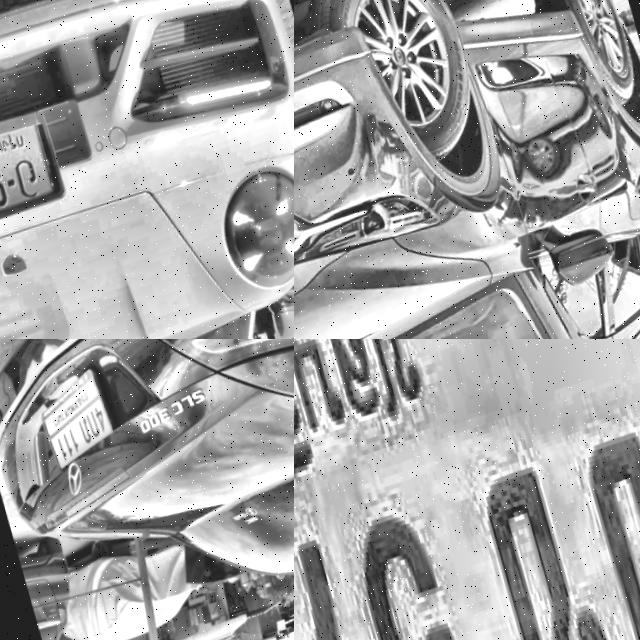license-plate: (294, 339, 640, 640), (15, 350, 123, 484), (0, 105, 73, 257)
